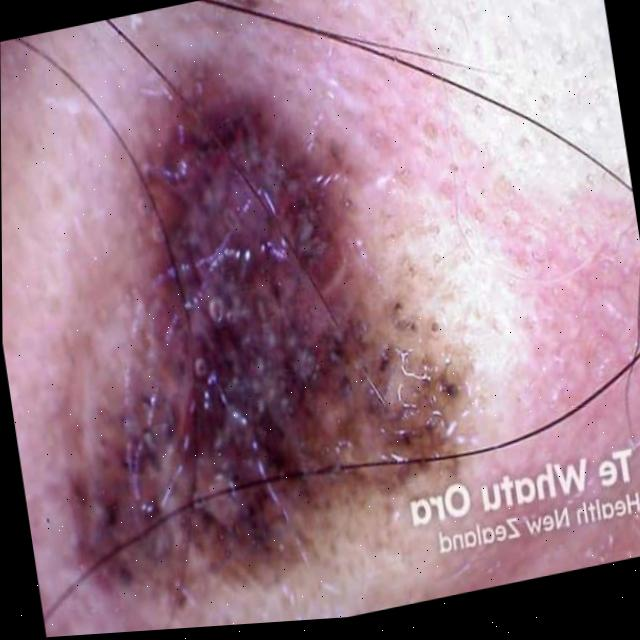Eczema: (58, 125, 444, 554)
